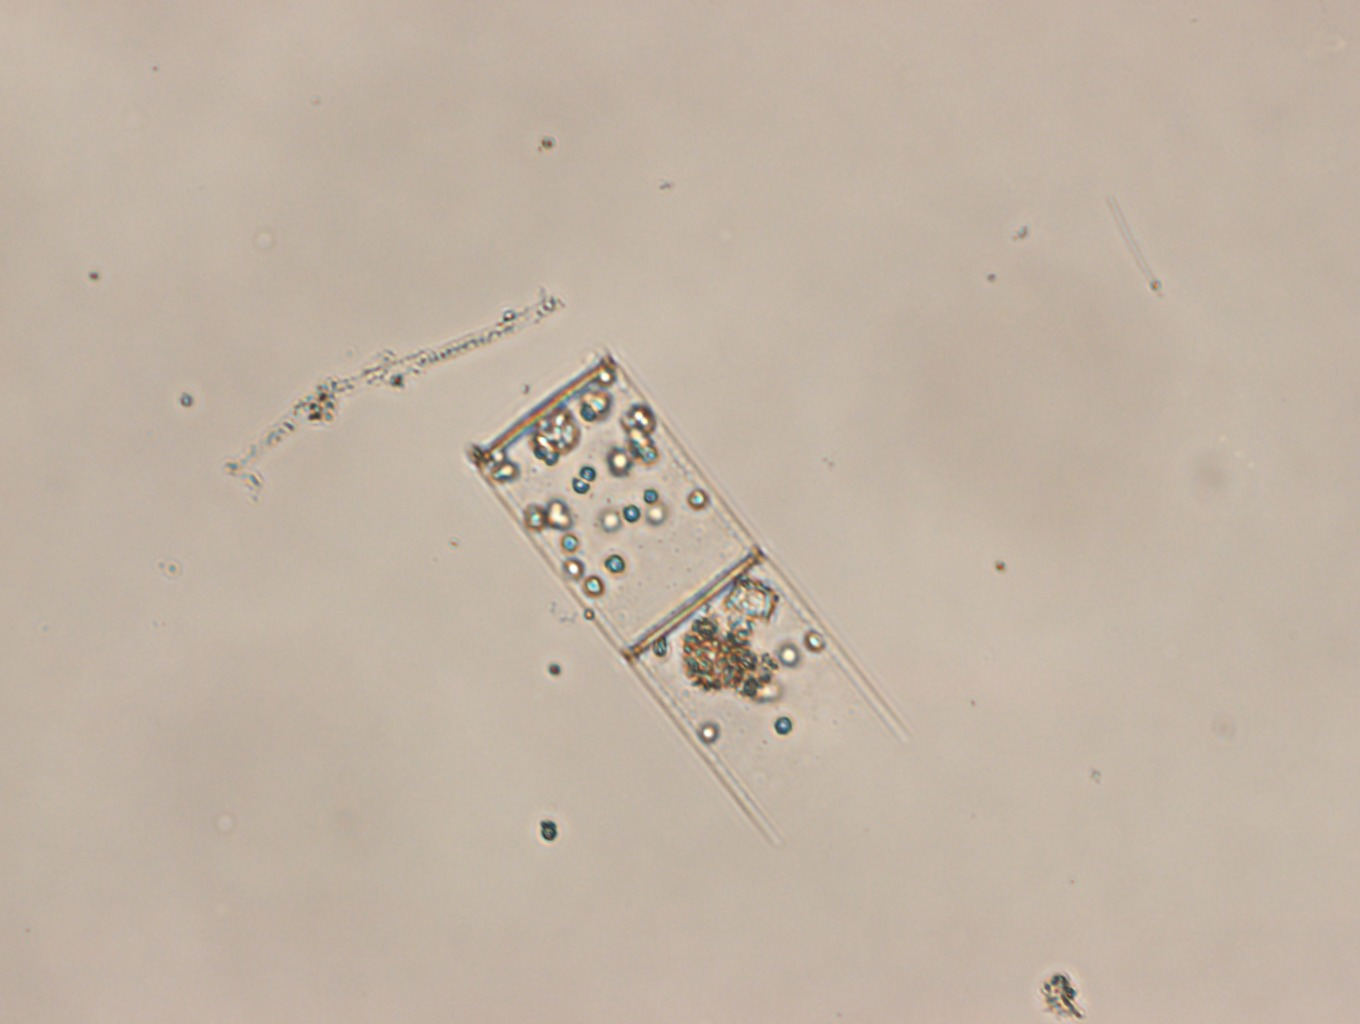guinardia flaccida: (475, 358, 911, 847)
